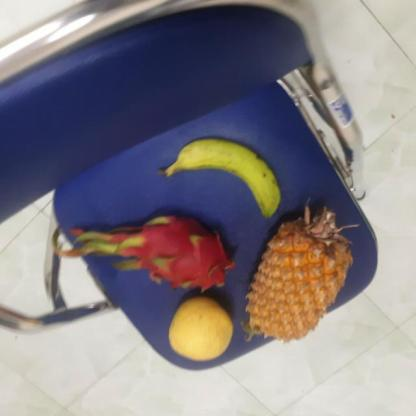banana: (163, 139, 276, 220)
pear: (165, 295, 234, 361)
pineapple: (240, 198, 352, 344)
pitaya: (127, 211, 230, 292)
